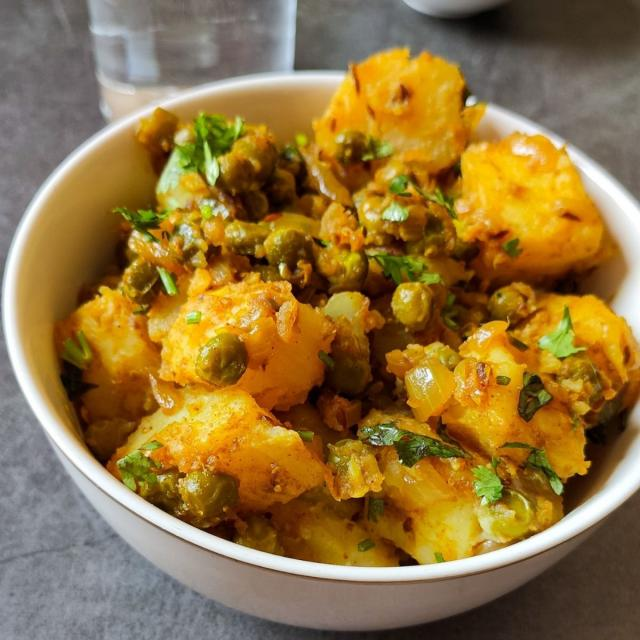Aloo Matar: (93, 41, 632, 562)
